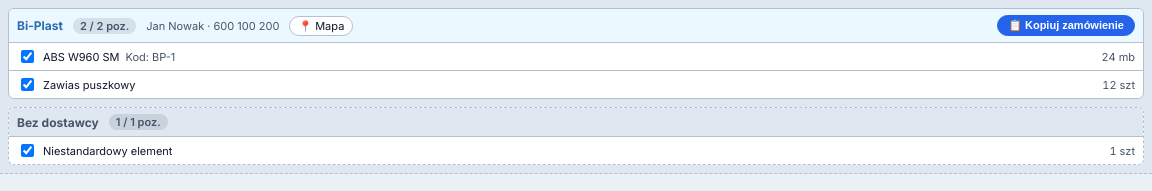
Test: SupplierOrderGroups › disables Kopiuj zamówienie once every item in the group is unchecked
The width and height of the screenshot is (1152, 191).
Click the text "ABS W960 SM".
click(81, 56)  # box [43, 50, 120, 64]
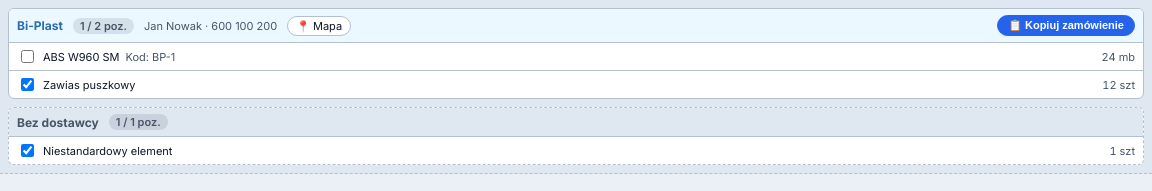
Click the text "Zawias puszkowy".
click(89, 84)  # box [43, 78, 135, 92]
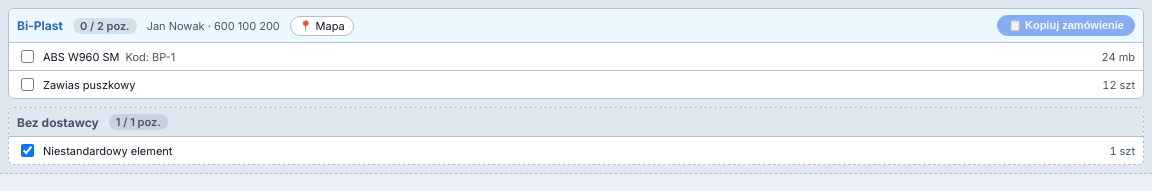
Now the button "📋 Kopiuj zamówienie" is disabled, box [997, 15, 1135, 36]
